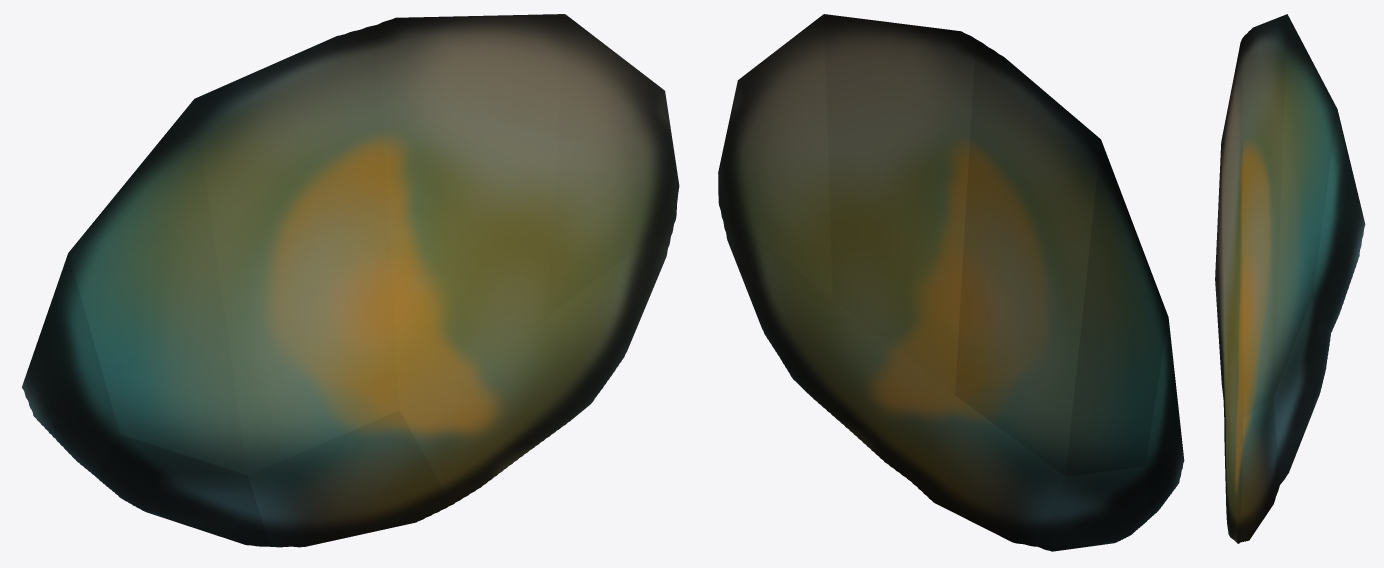
File: auge 1.FBX
3 views of the same model, side by side, from view 1: azimuth 30°, elevation 25°; view 2: azimuth 150°, elevation 25°; view 3: azimuth 270°, elevation 25° (orthographic). The views are drawn at different scales.
Visible parts, largest first — view 1: auge; view 2: auge; view 3: auge.
Part boxes in pixels (x1,y1,x2,y2): auge: (22,14,679,547); auge: (718,14,1184,551); auge: (1215,14,1365,543).
Size of the model in its own units: 36.98 by 31.6 by 8.85.
